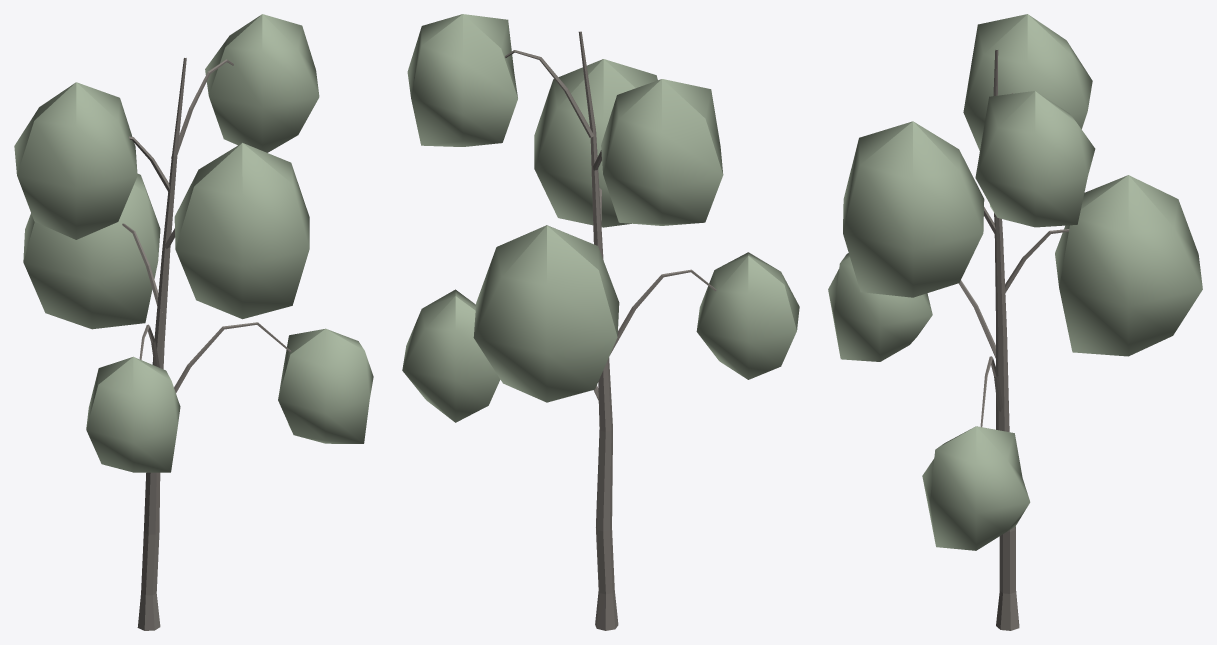
Rendered from dense-temperate-forest-flora-willow-young-c0d67be0__28335.glb.
3 renders of one model, left to right at view 1: azimuth 30°, elevation 25°; view 2: azimuth 150°, elevation 25°; view 3: azimuth 270°, elevation 25°, orthographic. The views are drawn at different scales.
Parts seen in each view (by area): view 1: willow-young; view 2: willow-young; view 3: willow-young.
Boxes of the visible parts, bbox=[...] form: willow-young: bbox=[14, 14, 373, 630]; willow-young: bbox=[402, 14, 799, 630]; willow-young: bbox=[828, 14, 1202, 630].
Bounding box in the file's own units: 2.04 × 3.35 × 1.9.
